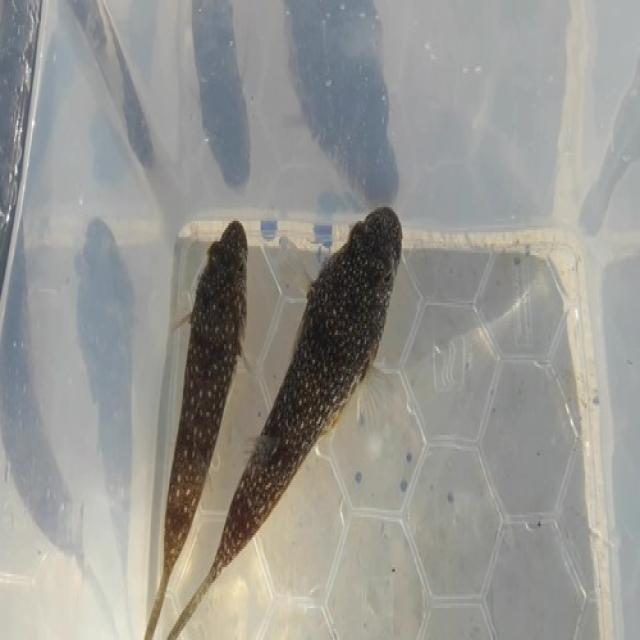Balik: (168, 208, 401, 639), (145, 221, 248, 639), (76, 219, 134, 571), (580, 57, 639, 234)
